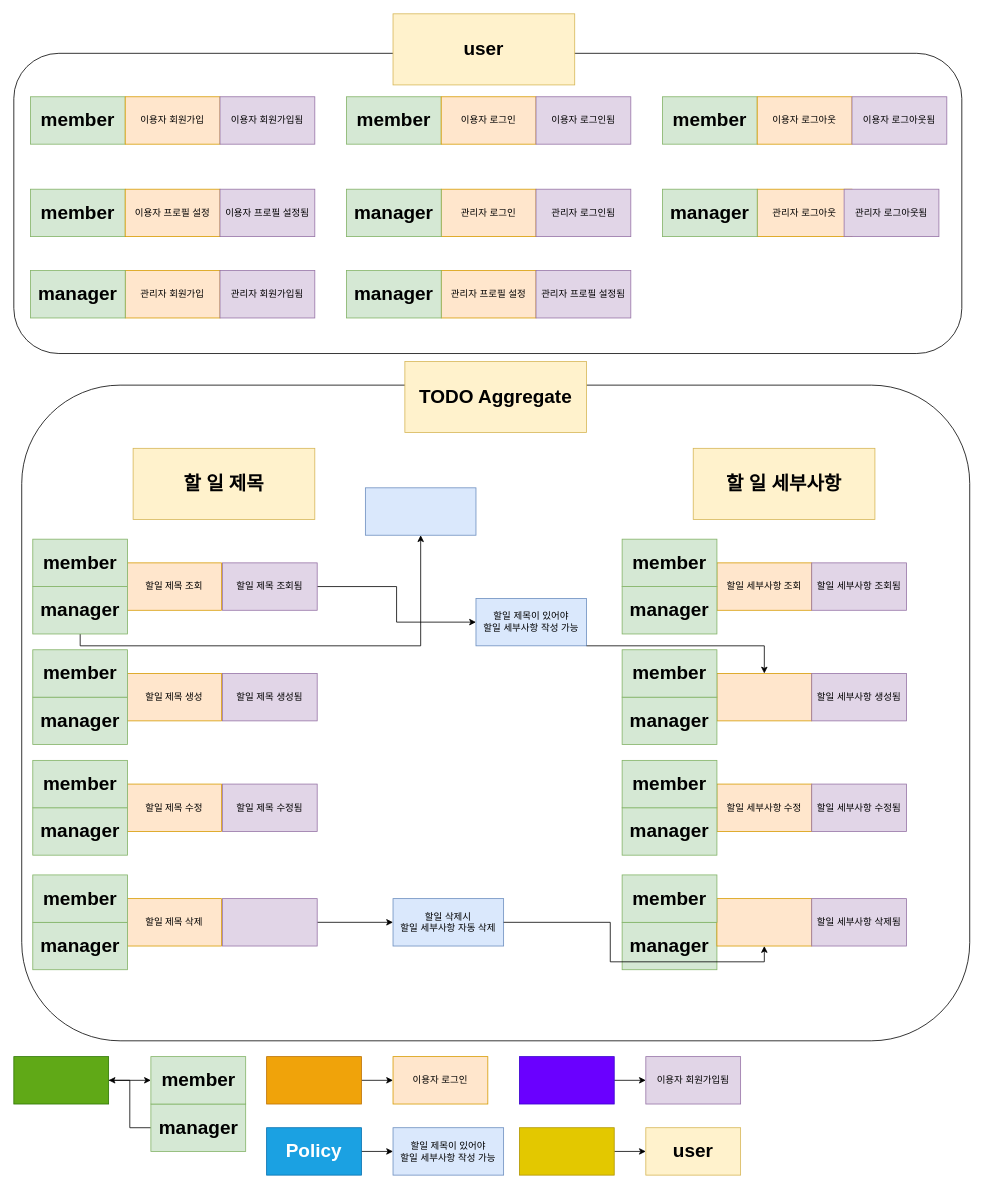
Some shapes in this 984 by 1189 pixel diagram are drawn without their labels. Each missing label, with the centre of its shape:
"Actor" belongs at (61,1080).
"Aggregate" belongs at (566,1151).
"Command" belongs at (566,1080).
"Event" belongs at (313,1080).
"관리자는 전체 할일 목록 회원은 개인이 작성한 목록을 조정할 권한이 있다." belongs at (420,511).
"할일 세부사항 삭제" belongs at (764,922).
"할일 세부사항 생성" belongs at (764,697).
"할일 제목 삭제됨" belongs at (269,922).
